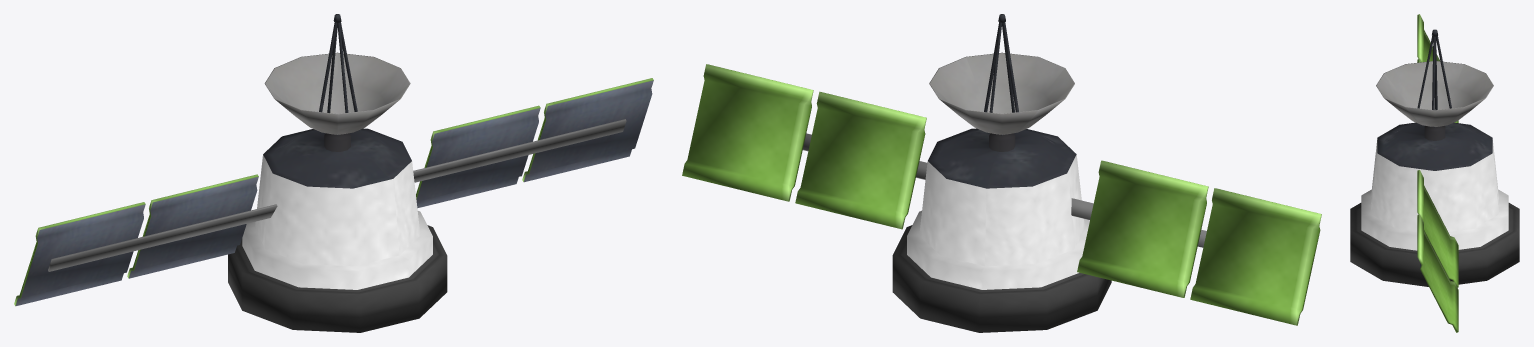
The model's file is Satelite.fbx.
The picture shows the model from 3 angles, left to right: view 1: azimuth 30°, elevation 25°; view 2: azimuth 150°, elevation 25°; view 3: azimuth 270°, elevation 25°; orthographic projection. The views are drawn at different scales.
Visible parts, largest first — view 1: Satelite Base; view 2: Satelite Base; view 3: Satelite Base.
Boxes of the visible parts, x1,y1,x2,y2 form: Satelite Base: [14, 14, 653, 332]; Satelite Base: [682, 14, 1321, 332]; Satelite Base: [1350, 14, 1519, 332].
Bounding box in the file's own units: 10.42 × 4.41 × 3.08.
